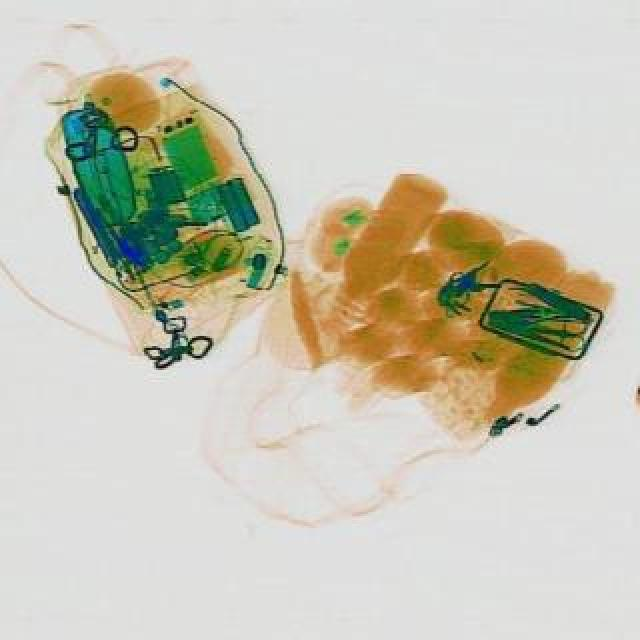pliers: (516, 314, 590, 354)
